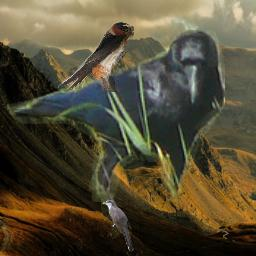Crow: (7, 30, 225, 202)
Cuckoo: (101, 199, 134, 252)
Swallow: (58, 22, 134, 92)
